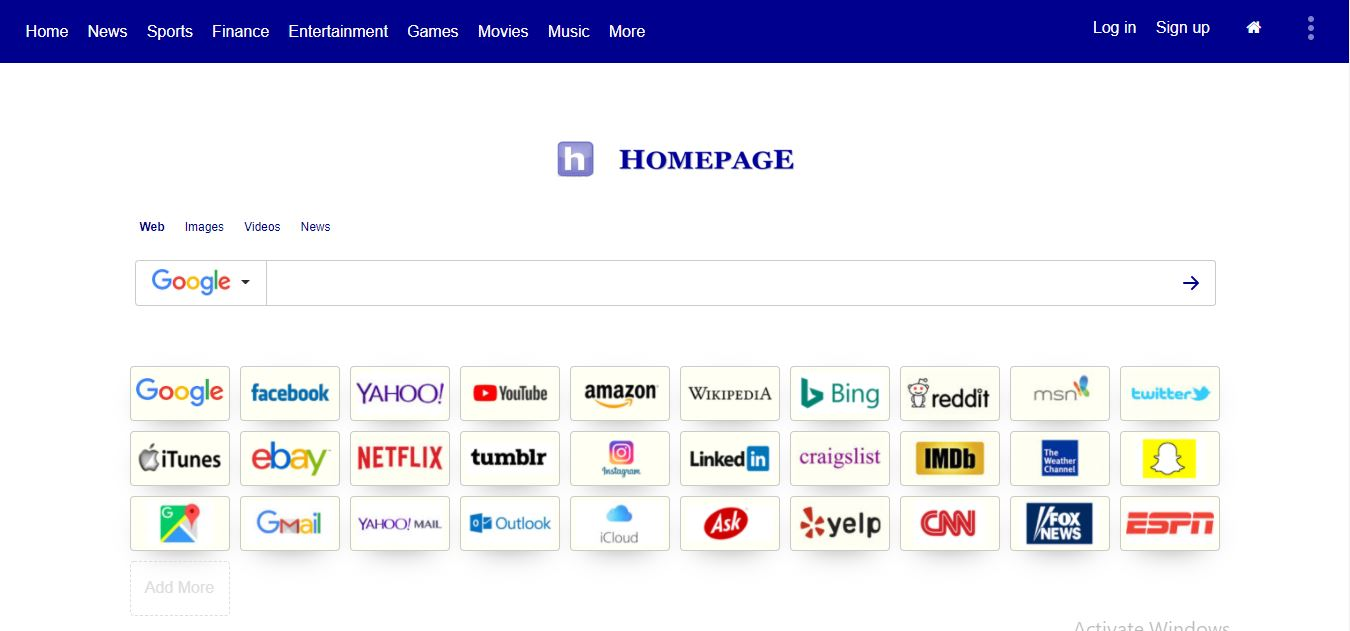Button: (1157, 255, 1217, 303)
Image: (539, 119, 810, 196), (128, 254, 272, 310), (122, 360, 233, 425), (676, 362, 785, 423), (568, 361, 673, 420), (349, 363, 452, 423), (787, 365, 893, 423), (125, 428, 231, 485), (1118, 363, 1222, 421), (898, 363, 998, 422), (566, 494, 671, 550), (1120, 494, 1223, 551), (898, 494, 1001, 551), (677, 495, 780, 552), (1009, 362, 1110, 420), (456, 431, 560, 487), (345, 431, 452, 485), (132, 495, 232, 552), (349, 496, 452, 551), (462, 366, 561, 423), (1117, 431, 1219, 486), (1013, 493, 1111, 550), (240, 496, 341, 551), (789, 430, 886, 486), (238, 367, 341, 419), (238, 430, 340, 482), (566, 433, 668, 485), (680, 432, 780, 485), (789, 499, 889, 551), (459, 499, 561, 548), (1011, 434, 1107, 484), (906, 433, 999, 484)
Menu Bar: (1, 0, 673, 60)
Nav Bar: (1071, 1, 1320, 62), (125, 206, 334, 242)
Text Field: (269, 255, 1163, 310)
